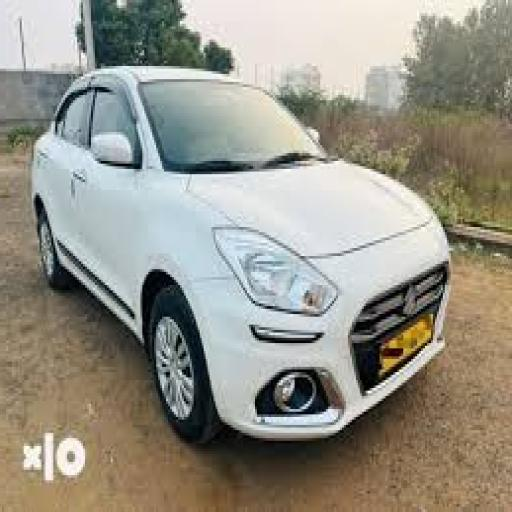License: (369, 311, 434, 379)
